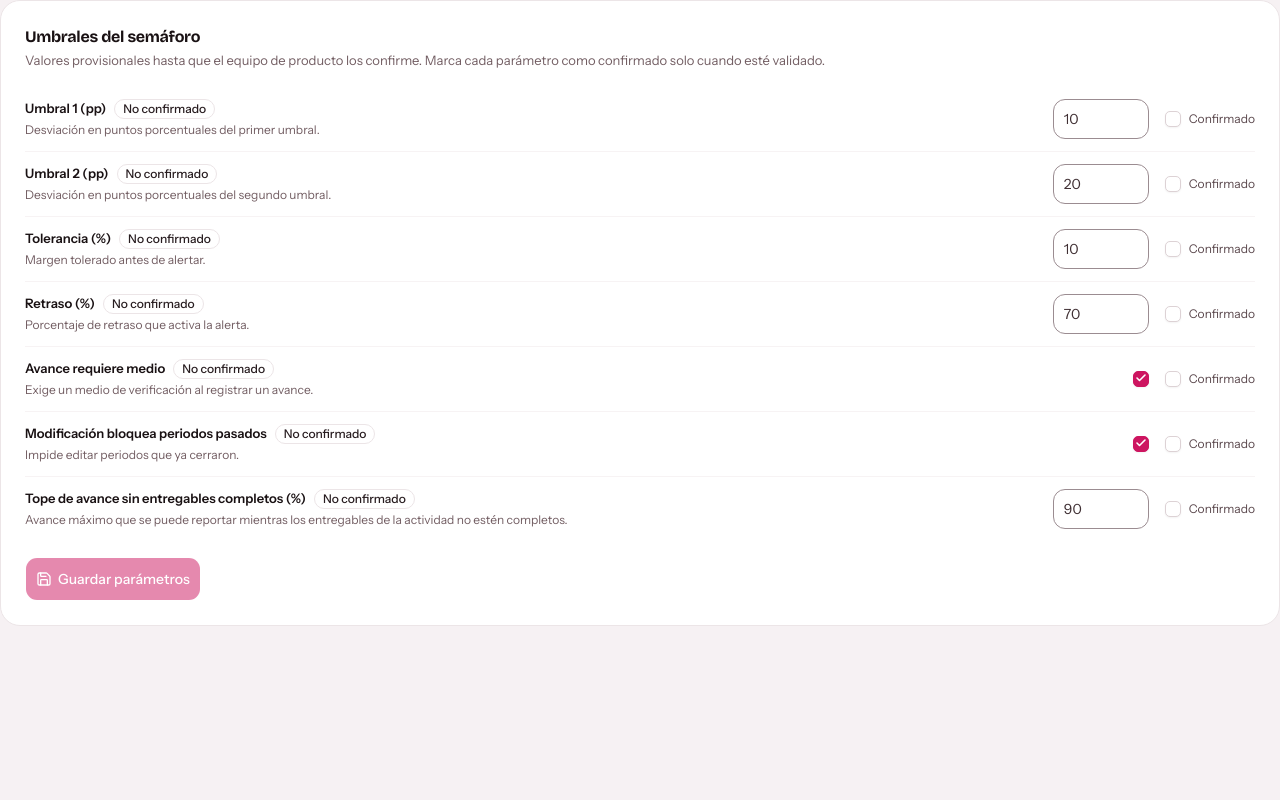
Scenario: UmbralesSection › shows the server error inline when saving fails
Click the checkbox named "Avance requiere medio" at point(1141, 378), box [1133,370,1149,386]
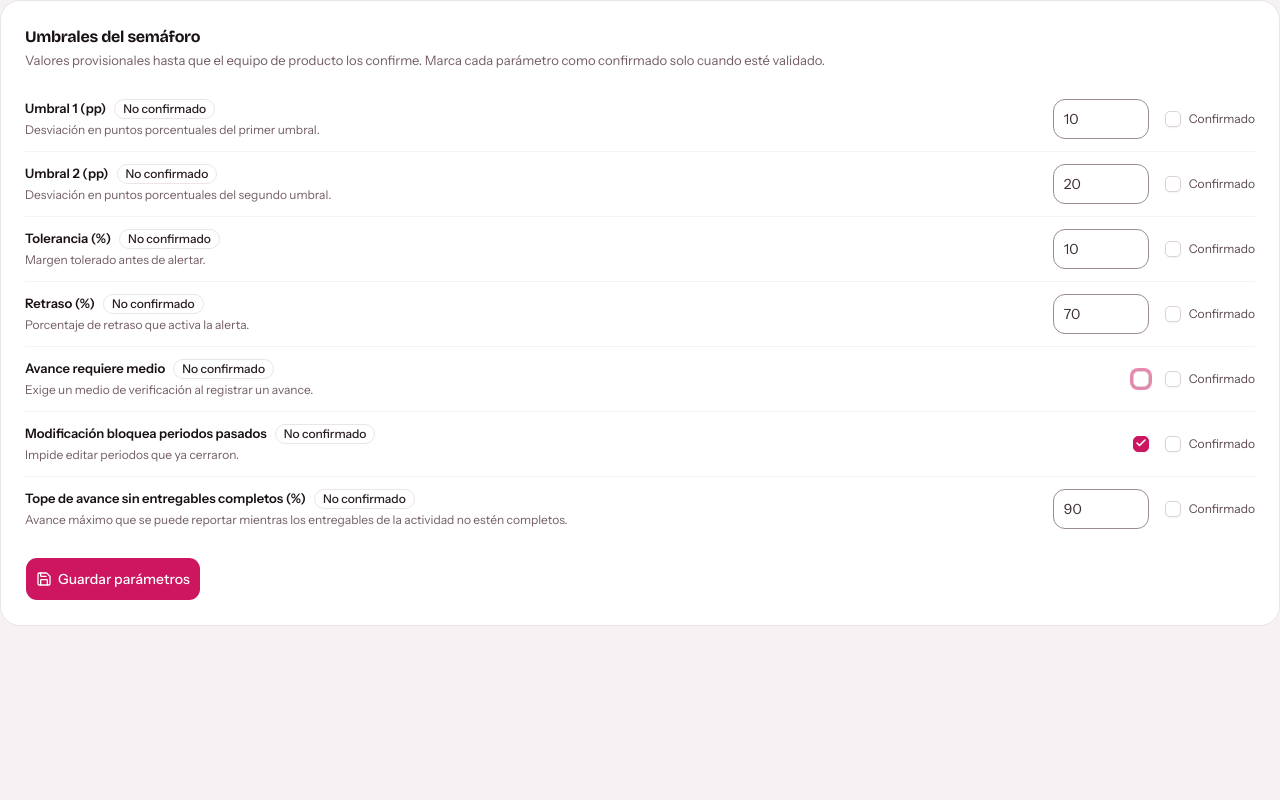
Click the button "Guardar parámetros" at point(113, 578), box [25,556,201,600]
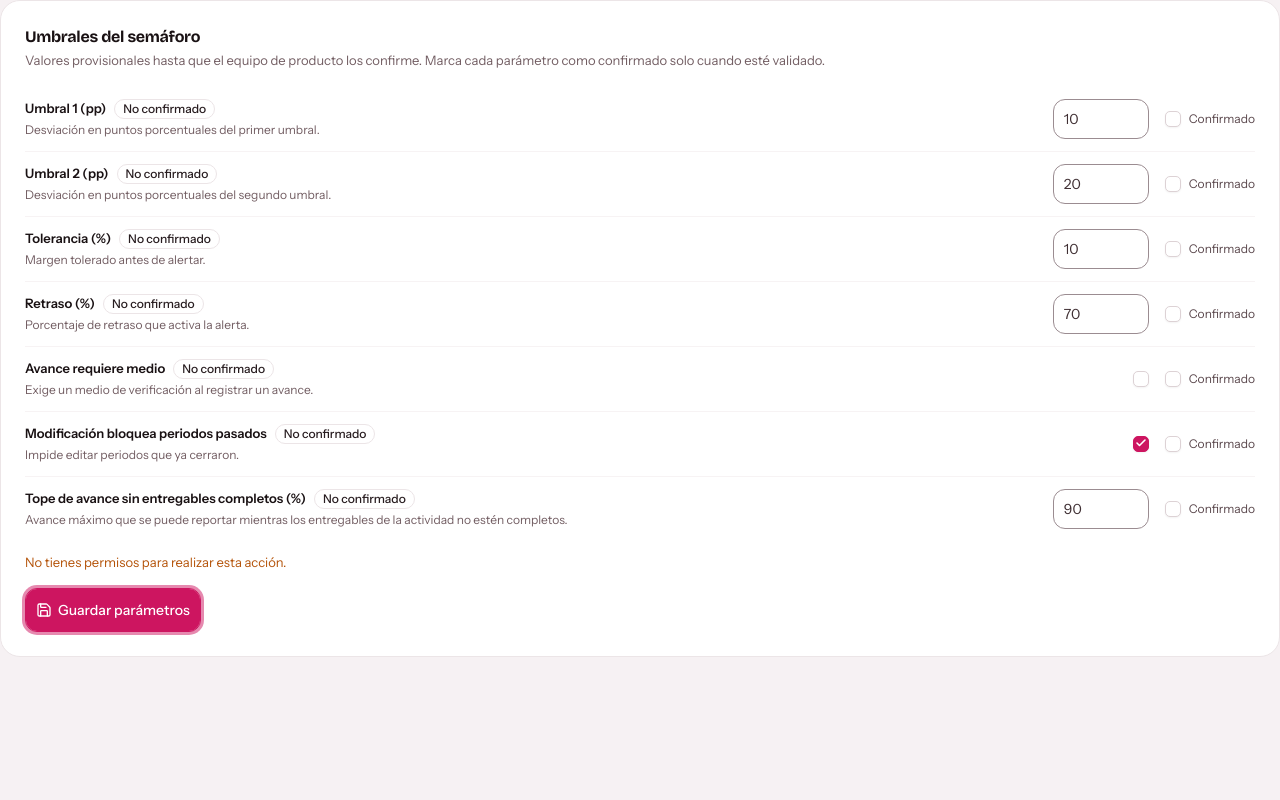
Result: the message reads "No tienes permisos para realizar esta acción." at [25,554,286,570]
